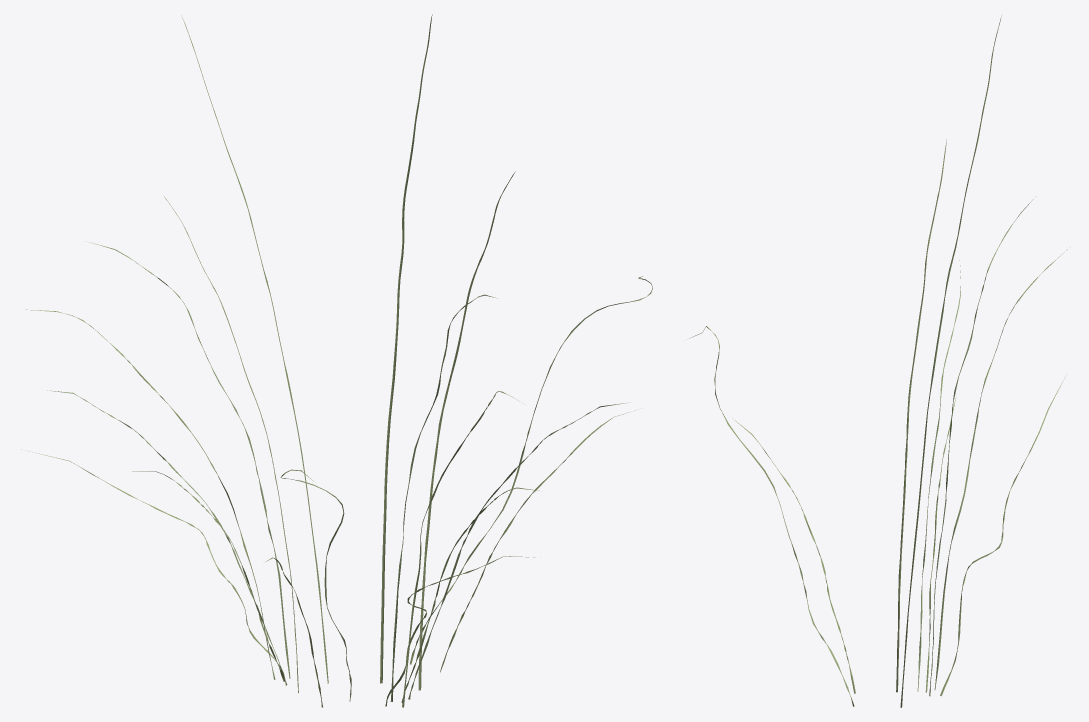
File: grass_seedhead_lod1.glb
3 renders of one model, left to right at view 1: azimuth 30°, elevation 25°; view 2: azimuth 150°, elevation 25°; view 3: azimuth 270°, elevation 25°, orthographic. The views are drawn at different scales.
Parts seen in each view (by area): view 1: bq_Grass_Panicum-virgatum_E_spring; view 2: bq_Grass_Panicum-virgatum_E_spring; view 3: bq_Grass_Panicum-virgatum_E_spring.
Part boxes in pixels (x1,y1,x2,y2): bq_Grass_Panicum-virgatum_E_spring: (25,15,351,707); bq_Grass_Panicum-virgatum_E_spring: (380,14,652,707); bq_Grass_Panicum-virgatum_E_spring: (689,15,1067,707).
Bounding box in the file's own units: 0.5962 × 1.46 × 0.8069.
1 material, 1 textured.
